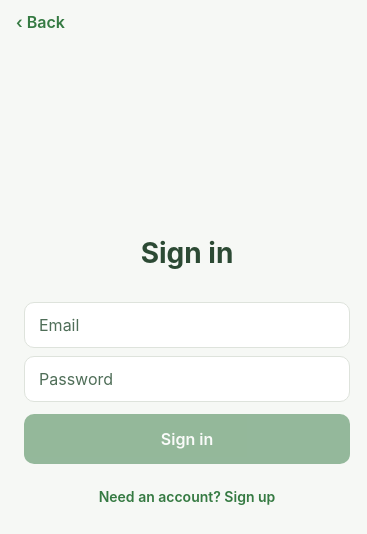
Test: a failed sign-in surfaces the error message
Type "a@b.com" into the field with placeholder "Email".
click(187, 324); type("a@b.com")  # box [24,302,350,348]
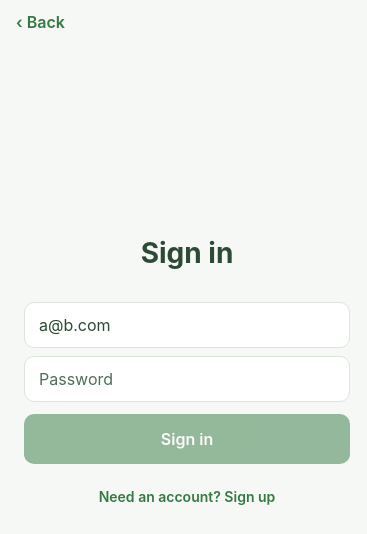
Type "wrong" into the password field with placeholder "Password".
click(187, 378); type("wrong")  # box [24,356,350,402]
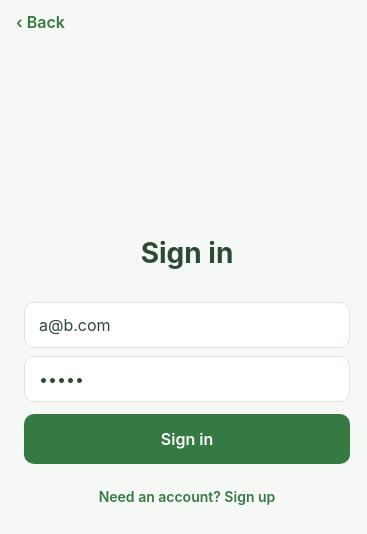
Click the element with test id "email-auth-submit".
click(187, 438)  # box [24,414,350,464]
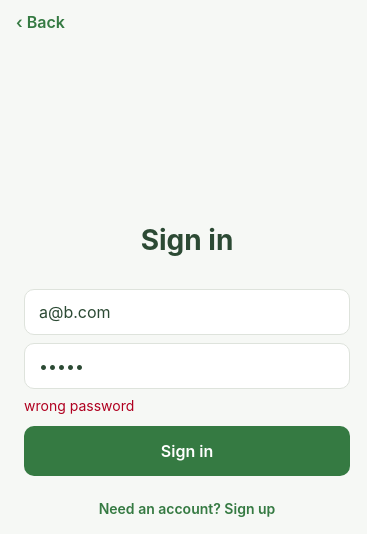
Expected: the text "wrong password" is shown, [24,397,134,414]
